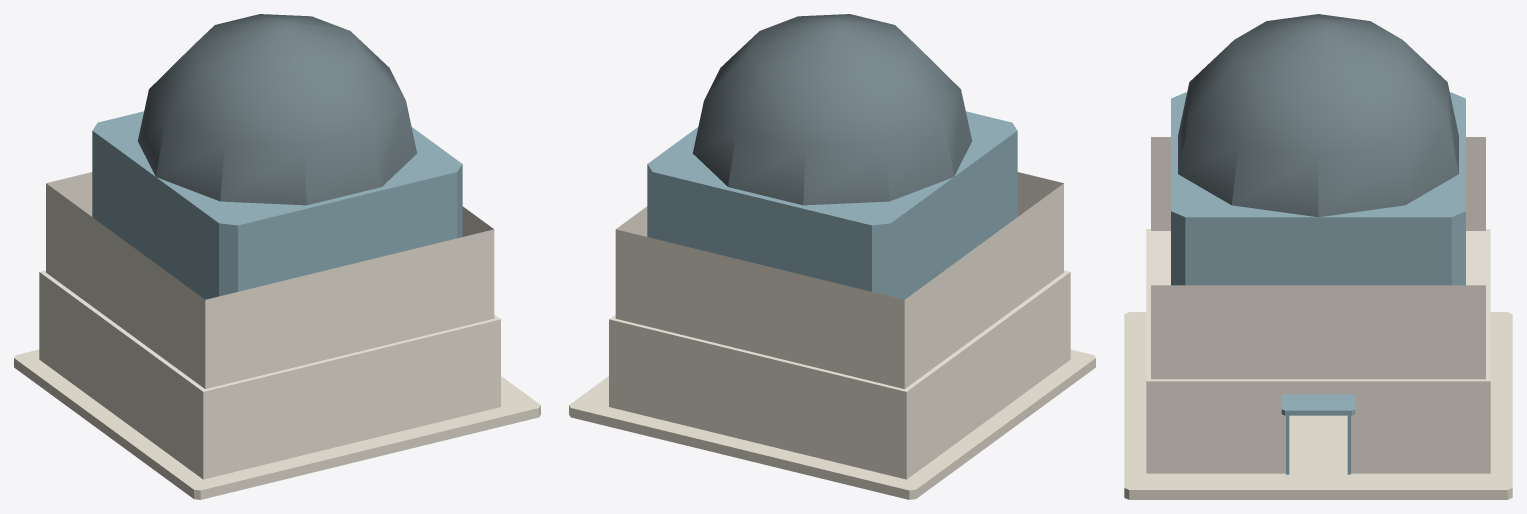
Rendered from Observatory_11p5m_v4_ShadowProxy.glb.
3 renders of one model, left to right at view 1: azimuth 30°, elevation 25°; view 2: azimuth 150°, elevation 25°; view 3: azimuth 270°, elevation 25°, orthographic. The views are drawn at different scales.
Visible parts, largest first — view 1: Observatory_11p5m_v4_ShadowProxy / Structure, Observatory_11p5m_v4_ShadowProxy / Optical dome, Observatory_11p5m_v4_ShadowProxy / Foundation; view 2: Observatory_11p5m_v4_ShadowProxy / Structure, Observatory_11p5m_v4_ShadowProxy / Optical dome, Observatory_11p5m_v4_ShadowProxy / Foundation; view 3: Observatory_11p5m_v4_ShadowProxy / Optical dome, Observatory_11p5m_v4_ShadowProxy / Structure, Observatory_11p5m_v4_ShadowProxy / Foundation, Observatory_11p5m_v4_ShadowProxy / Entrance modules.
Part boxes in pixels (x1,y1,x2,y2): Observatory_11p5m_v4_ShadowProxy / Structure: (39, 172, 500, 479); Observatory_11p5m_v4_ShadowProxy / Optical dome: (92, 14, 462, 299); Observatory_11p5m_v4_ShadowProxy / Foundation: (14, 349, 540, 499); Observatory_11p5m_v4_ShadowProxy / Structure: (609, 172, 1070, 479); Observatory_11p5m_v4_ShadowProxy / Optical dome: (647, 14, 1017, 299); Observatory_11p5m_v4_ShadowProxy / Foundation: (569, 349, 1095, 499); Observatory_11p5m_v4_ShadowProxy / Optical dome: (1171, 14, 1465, 285); Observatory_11p5m_v4_ShadowProxy / Structure: (1146, 137, 1490, 473); Observatory_11p5m_v4_ShadowProxy / Foundation: (1124, 312, 1512, 499); Observatory_11p5m_v4_ShadowProxy / Entrance modules: (1281, 394, 1355, 493).
Size of the model in its own units: 13 by 13.08 by 12.
